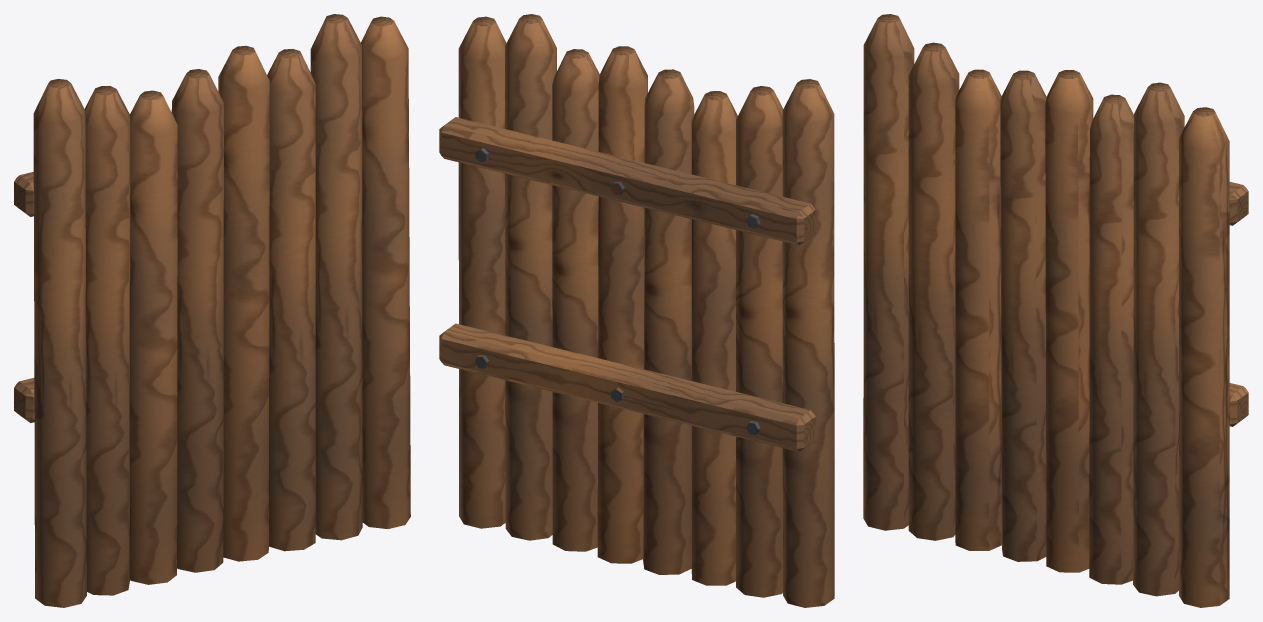
File: sur_duvari.glb
3 renders of one model, left to right at view 1: azimuth 30°, elevation 25°; view 2: azimuth 150°, elevation 25°; view 3: azimuth 330°, elevation 25°, orthographic. The views are drawn at different scales.
Parts seen in each view (by area): view 1: sur_duvari; view 2: sur_duvari; view 3: sur_duvari.
Boxes of the visible parts, left/top/right/bottom form: sur_duvari: left=14, top=14, right=410, bottom=607; sur_duvari: left=439, top=14, right=834, bottom=607; sur_duvari: left=863, top=14, right=1248, bottom=607.
Size of the model in its own units: 2.98 by 3.98 by 0.6102.
Materials: 1 (1 with a texture image).
